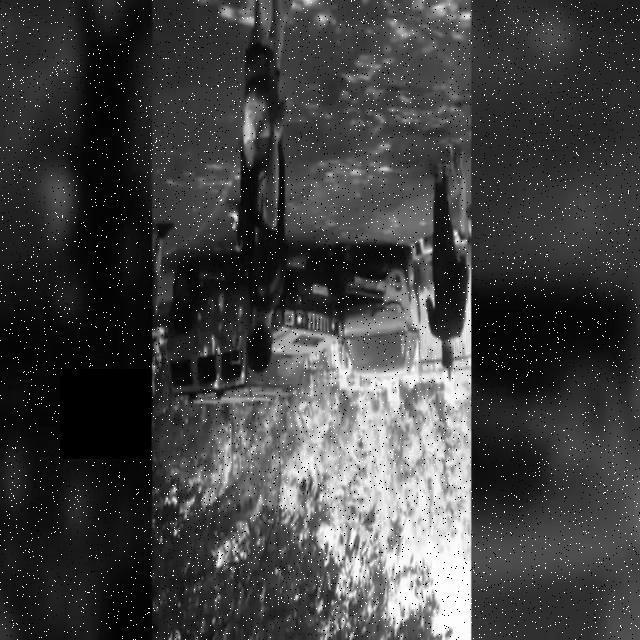vehicle: (152, 188, 462, 450)
